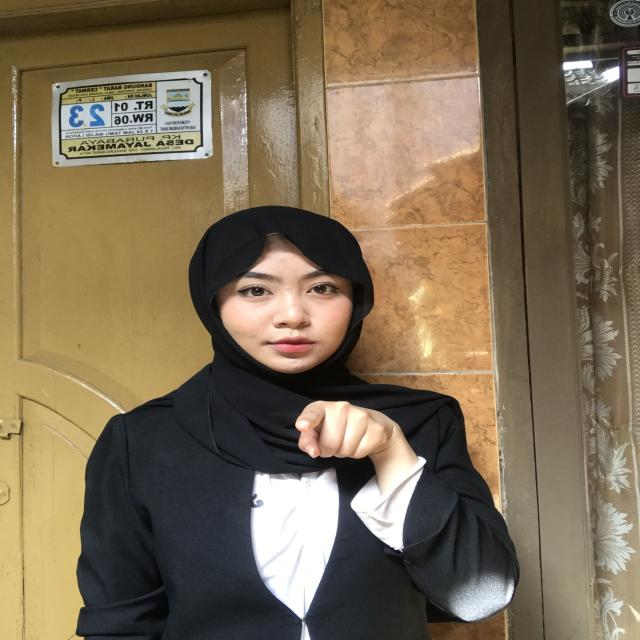kamu: (278, 383, 436, 510)
